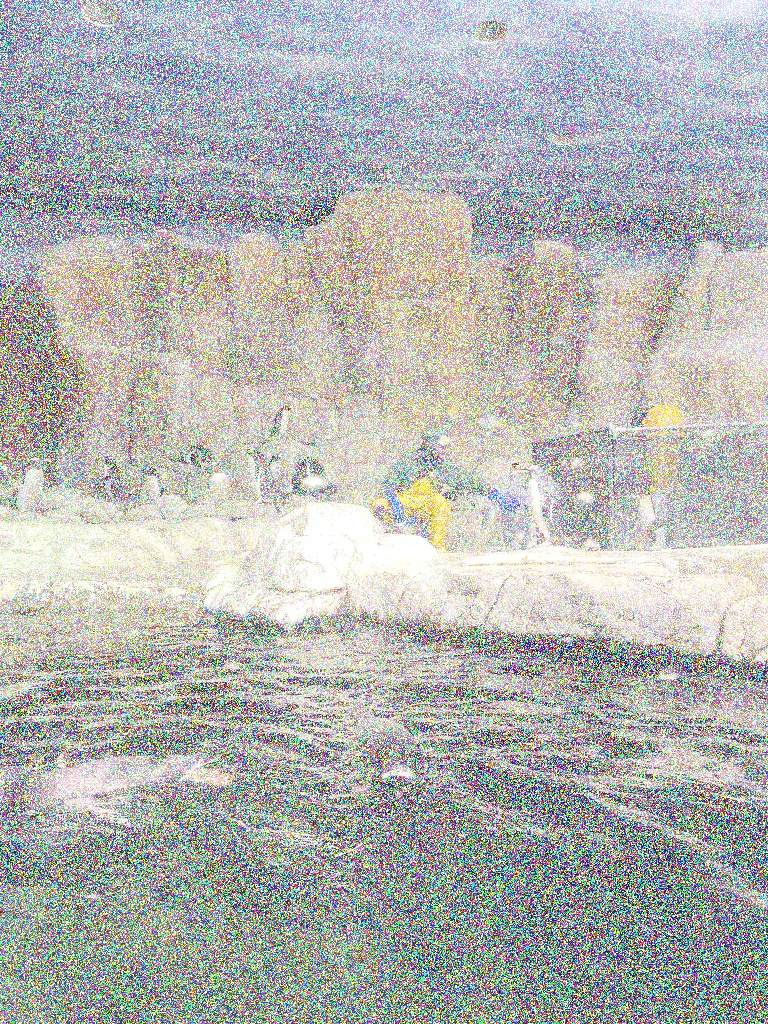penguin: (0, 732, 247, 832), (352, 712, 426, 800), (519, 462, 575, 548), (481, 462, 533, 550), (7, 456, 55, 516), (239, 446, 281, 512), (633, 482, 675, 548), (100, 454, 132, 498), (307, 456, 337, 502), (696, 460, 726, 504), (136, 467, 168, 503), (169, 445, 213, 467), (292, 454, 310, 496), (270, 451, 284, 495), (274, 402, 292, 434)
